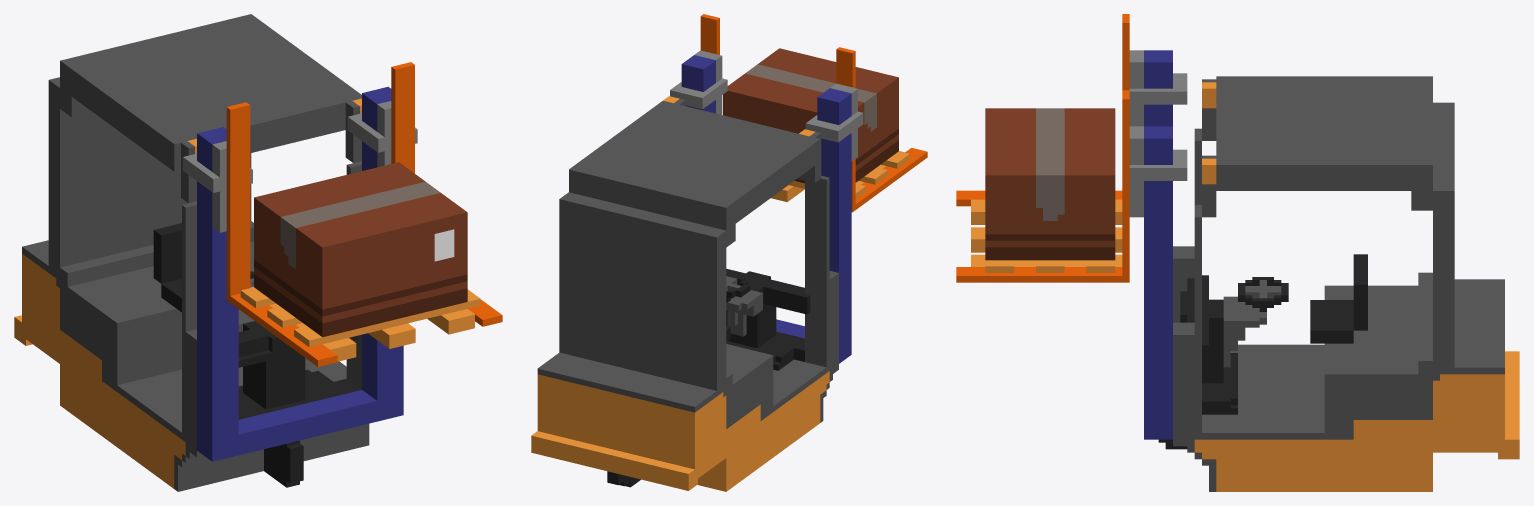
Rendered from Empilhadeira-0.obj.
The picture shows the model from 3 angles, left to right: view 1: azimuth 30°, elevation 25°; view 2: azimuth 150°, elevation 25°; view 3: azimuth 270°, elevation 25°; orthographic projection. The views are drawn at different scales.
Bounding box in the file's own units: 3.1 × 6 × 7.8.
Materials: 1 (1 with a texture image).
